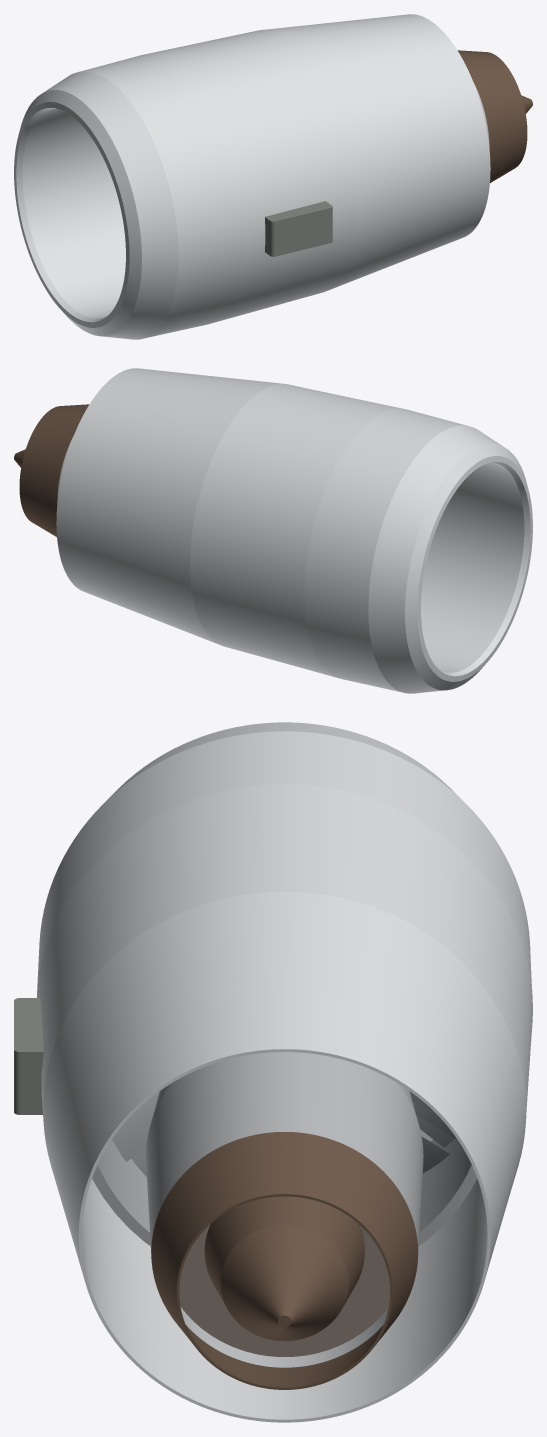
File: assembly.glb
3 renders of one model, top to bottom at view 1: azimuth 30°, elevation 25°; view 2: azimuth 150°, elevation 25°; view 3: azimuth 270°, elevation 25°, orthographic. The views are drawn at different scales.
Parts seen in each view (by area): view 1: fan_cowl_reverser, inlet_cowl, core_nozzle, accessory_gearbox; view 2: fan_cowl_reverser, inlet_cowl, core_nozzle; view 3: fan_cowl_reverser, inlet_cowl, core_cowl, core_nozzle, exhaust_plug, lp_turbine, fan_case, fan_rotor, accessory_gearbox.
Boxes of the visible parts, x1,y1,x2,y2 form: fan_cowl_reverser: (144,14,490,323); inlet_cowl: (14,54,242,339); core_nozzle: (457,50,527,182); accessory_gearbox: (264,201,332,256); fan_cowl_reverser: (56,368,401,677); inlet_cowl: (304,408,532,693); core_nozzle: (19,404,89,536); fan_cowl_reverser: (37,784,532,1422); inlet_cowl: (37,722,532,1141); core_cowl: (146,1052,423,1367); core_nozzle: (151,1132,418,1389); exhaust_plug: (204,1196,364,1341); lp_turbine: (179,1224,390,1356); fan_case: (92,1138,477,1246); fan_rotor: (112,1091,455,1177); accessory_gearbox: (14,998,43,1114).
Bounding box in the file's own units: 3560 × 1859 × 1944.
